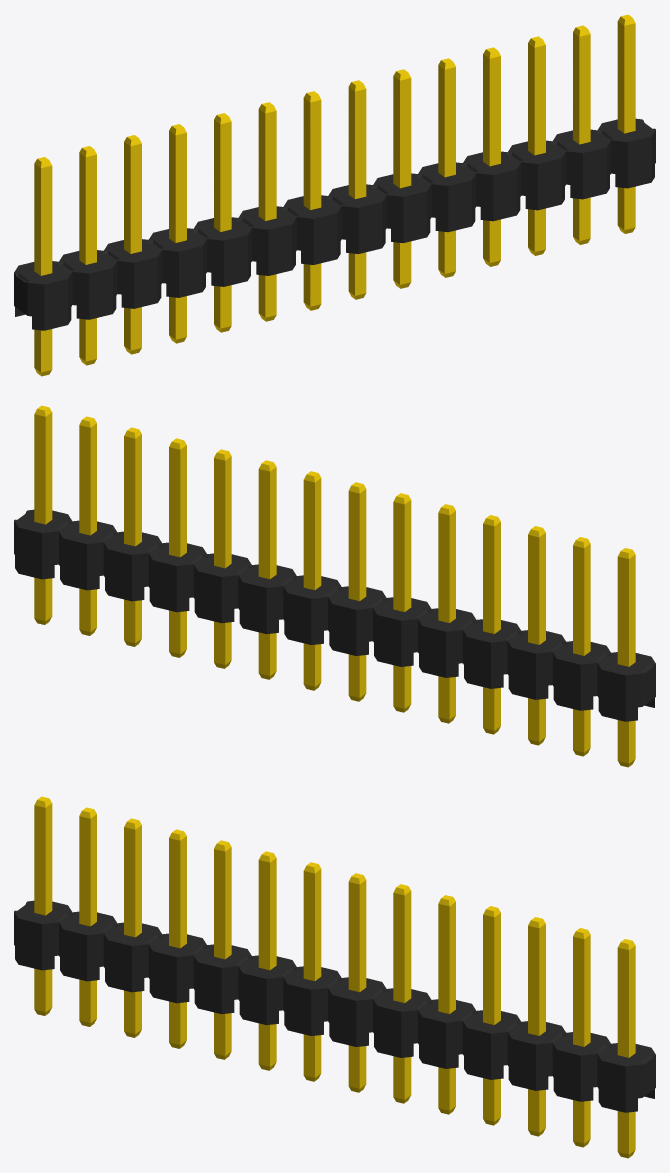
The model's file is PLS14.glb.
3 views of the same model, one above another, from view 1: azimuth 30°, elevation 25°; view 2: azimuth 150°, elevation 25°; view 3: azimuth 330°, elevation 25° (orthographic).
Parts seen in each view (by area): view 1: PLS (DS1021 CONNFLY); view 2: PLS (DS1021 CONNFLY); view 3: PLS (DS1021 CONNFLY).
Part boxes in pixels (x1=…): PLS (DS1021 CONNFLY): x1=14, y1=14, x2=655, y2=376; PLS (DS1021 CONNFLY): x1=14, y1=405, x2=655, y2=767; PLS (DS1021 CONNFLY): x1=14, y1=796, x2=655, y2=1158.
Size of the model in its own units: 0.0356 by 0.0116 by 0.00254.
